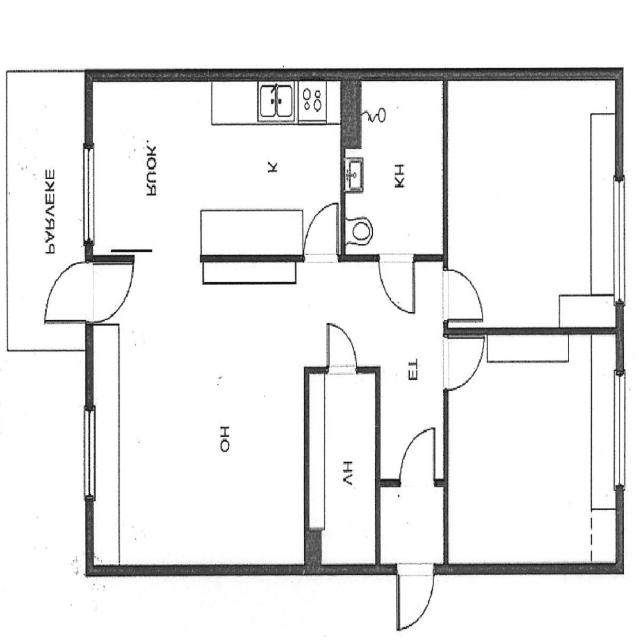door: (378, 481, 445, 565), (87, 252, 138, 324), (41, 256, 93, 326), (393, 562, 438, 633), (441, 331, 489, 392), (440, 263, 488, 324), (397, 424, 439, 492), (376, 254, 418, 317), (303, 200, 342, 261), (323, 321, 361, 377)
window: (76, 141, 100, 249), (79, 403, 99, 510), (614, 362, 628, 499), (614, 170, 627, 308)
zone: (94, 278, 310, 574), (80, 83, 350, 260), (443, 75, 625, 330), (447, 328, 625, 571), (344, 77, 448, 260), (311, 367, 378, 570), (378, 480, 448, 571)
